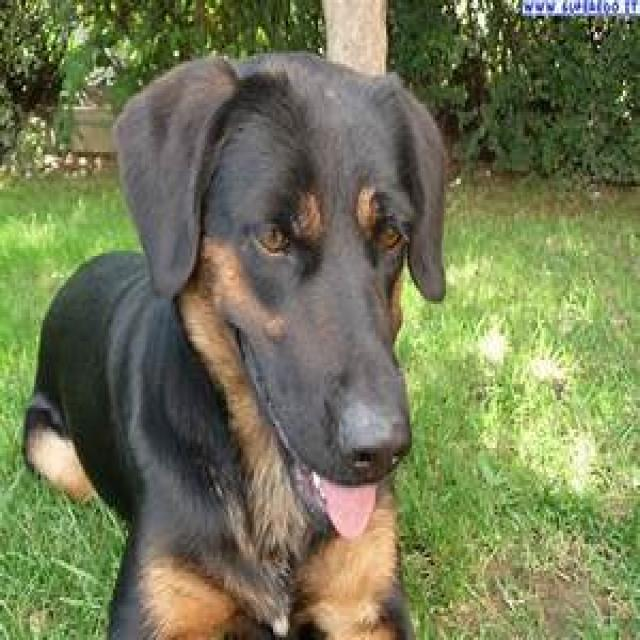dog: (21, 53, 448, 640)
